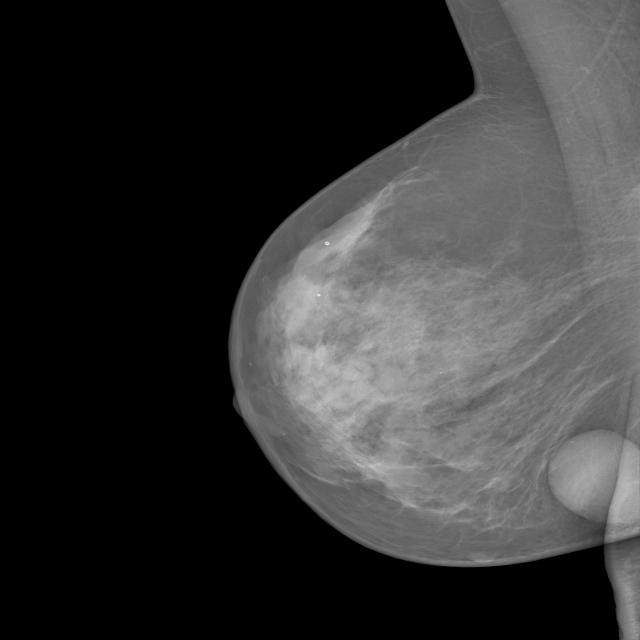Mass_1: (522, 409, 640, 546)
